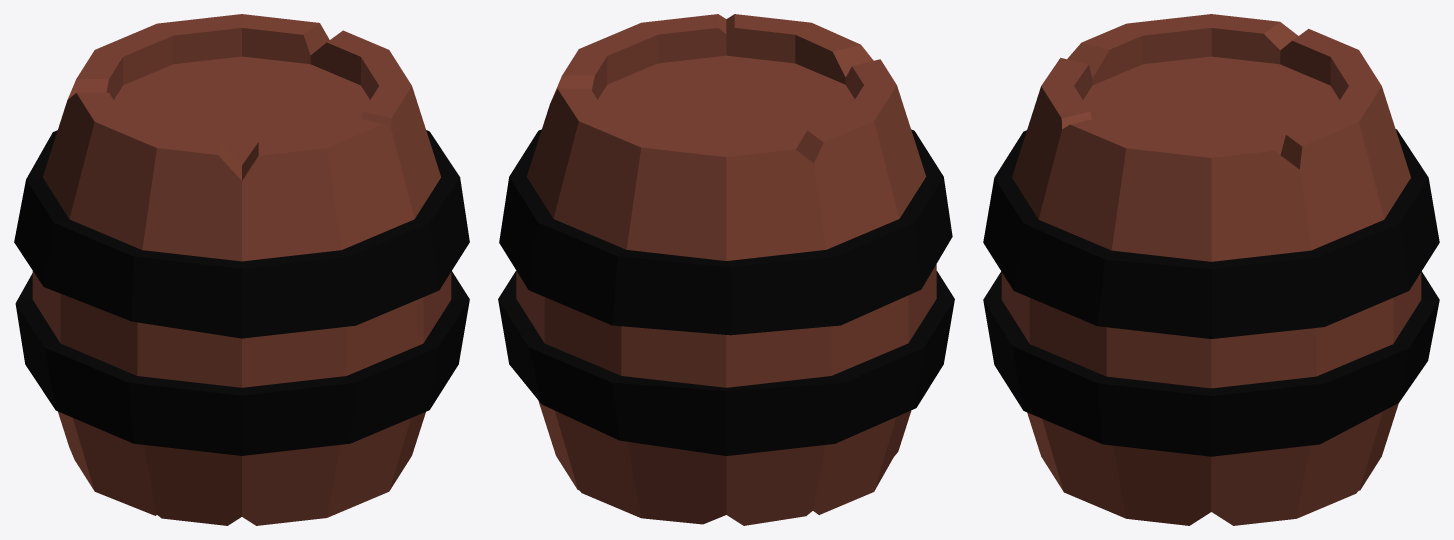
File: Barrel.fbx
The picture shows the model from 3 angles, left to right: view 1: azimuth 30°, elevation 25°; view 2: azimuth 150°, elevation 25°; view 3: azimuth 270°, elevation 25°; orthographic projection.
Visible parts, largest first — view 1: Barrel; view 2: Barrel; view 3: Barrel.
Part boxes in pixels (box(x1,y1,x2,y2)): Barrel: box(14, 14, 469, 525); Barrel: box(498, 14, 954, 525); Barrel: box(983, 14, 1439, 525).
Bounding box in the file's own units: 134 × 120 × 134.
